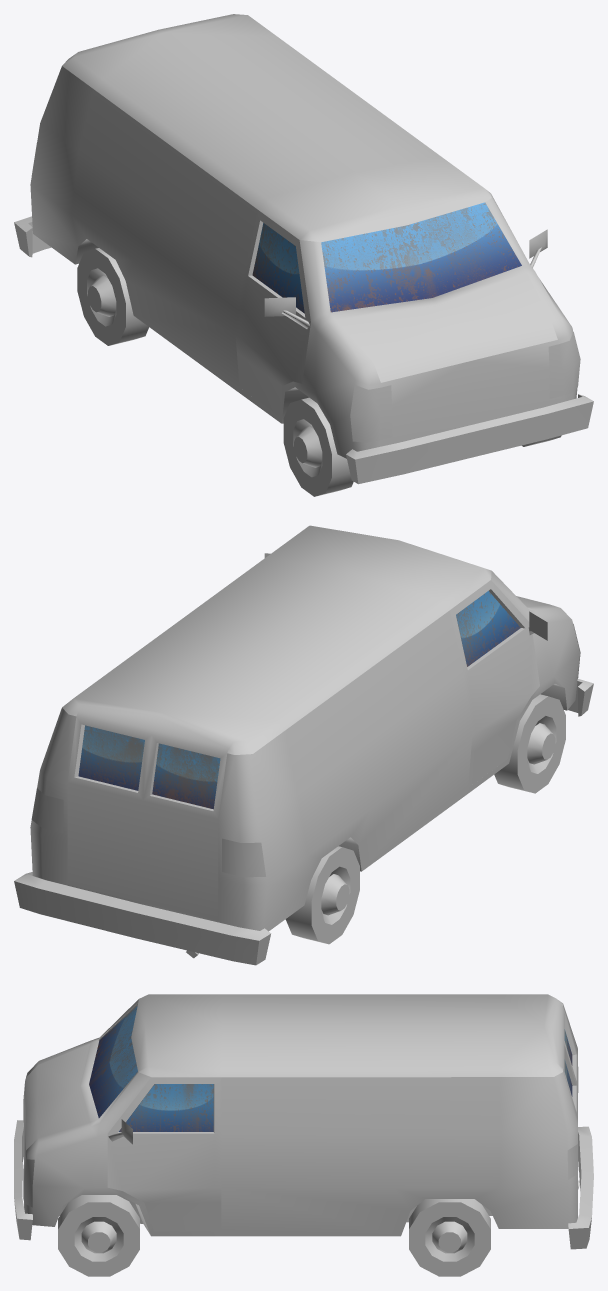
The model's file is Veh_Van.FBX.
3 views of the same model, one above another, from view 1: azimuth 30°, elevation 25°; view 2: azimuth 150°, elevation 25°; view 3: azimuth 270°, elevation 25° (orthographic). The views are drawn at different scales.
Parts seen in each view (by area): view 1: Veh_Van, roof, windshield, hood, door_frontR, wheel_frontR, wheel_backR, glass_door_frontR, light_frontR, light_frontL; view 2: Veh_Van, roof, door_rearL, door_rearR, door_frontR, wheel_backR, wheel_frontR, glass_door_rearR, glass_door_rearL, glass_door_frontR, light_rearR, light_rearL; view 3: Veh_Van, roof, door_frontL, wheel_frontL, wheel_backL, hood, glass_door_frontL, windshield, door_rearR, door_rearL, light_frontL.
Part boxes in pixels (box(x1,y1,x2,y2)): Veh_Van: box(14, 66, 593, 484); roof: box(62, 14, 491, 242); windshield: box(321, 202, 521, 312); hood: box(336, 273, 557, 382); door_frontR: box(235, 210, 310, 415); wheel_frontR: box(283, 397, 353, 496); wheel_backR: box(77, 248, 148, 345); glass_door_frontR: box(252, 223, 304, 313); light_frontR: box(350, 385, 392, 442); light_frontL: box(548, 332, 580, 398); Veh_Van: box(14, 571, 593, 965); roof: box(62, 525, 491, 754); door_rearL: box(67, 711, 153, 901); door_rearR: box(143, 730, 228, 920); door_frontR: box(450, 580, 547, 787); wheel_backR: box(285, 846, 359, 944); wheel_frontR: box(494, 694, 565, 793); glass_door_rearR: box(152, 743, 220, 809); glass_door_rearL: box(78, 725, 144, 790); glass_door_frontR: box(456, 591, 520, 666); light_rearR: box(222, 838, 265, 877); light_rearL: box(31, 788, 63, 833); Veh_Van: box(14, 999, 593, 1249); roof: box(131, 994, 562, 1077); door_frontL: box(107, 1077, 221, 1231); wheel_frontL: box(58, 1195, 139, 1276); wheel_backL: box(409, 1199, 490, 1276); hood: box(26, 1044, 90, 1149); glass_door_frontL: box(119, 1084, 213, 1131); windshield: box(89, 1006, 137, 1117); door_rearR: box(560, 1004, 577, 1087); door_rearL: box(560, 1035, 577, 1118); light_frontL: box(23, 1153, 34, 1207).
Size of the model in its own units: 240 by 194 by 503.
